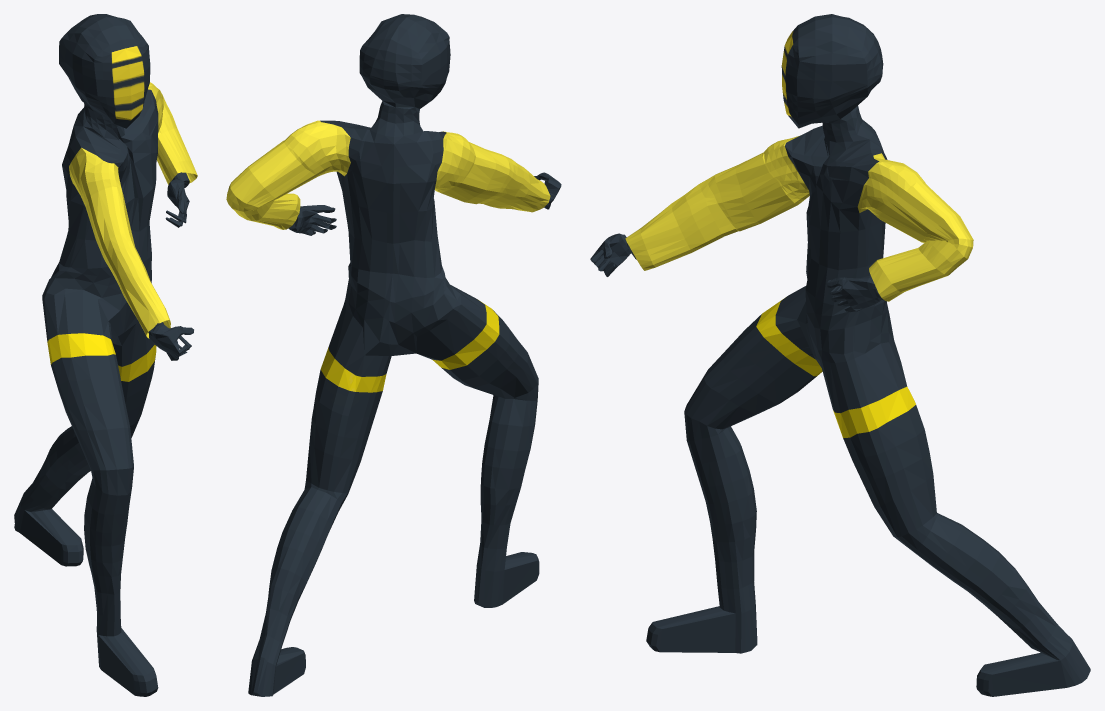
The model's file is Sentry_Hit_Stun_000001.obj.
3 views of the same model, side by side, from view 1: azimuth 30°, elevation 25°; view 2: azimuth 150°, elevation 25°; view 3: azimuth 270°, elevation 25° (orthographic). The views are drawn at different scales.
Parts seen in each view (by area): view 1: Cube; view 2: Cube; view 3: Cube.
Boxes of the visible parts, x1,y1,x2,y2 form: Cube: [14, 14, 197, 696]; Cube: [226, 14, 561, 696]; Cube: [590, 14, 1090, 696].
Bounding box in the file's own units: 1.21 × 3.6 × 2.5.
